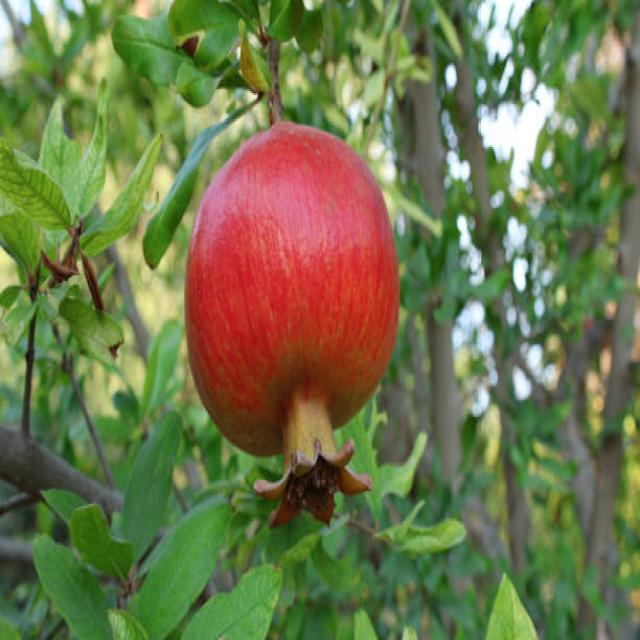Ripe: (181, 117, 401, 532)
